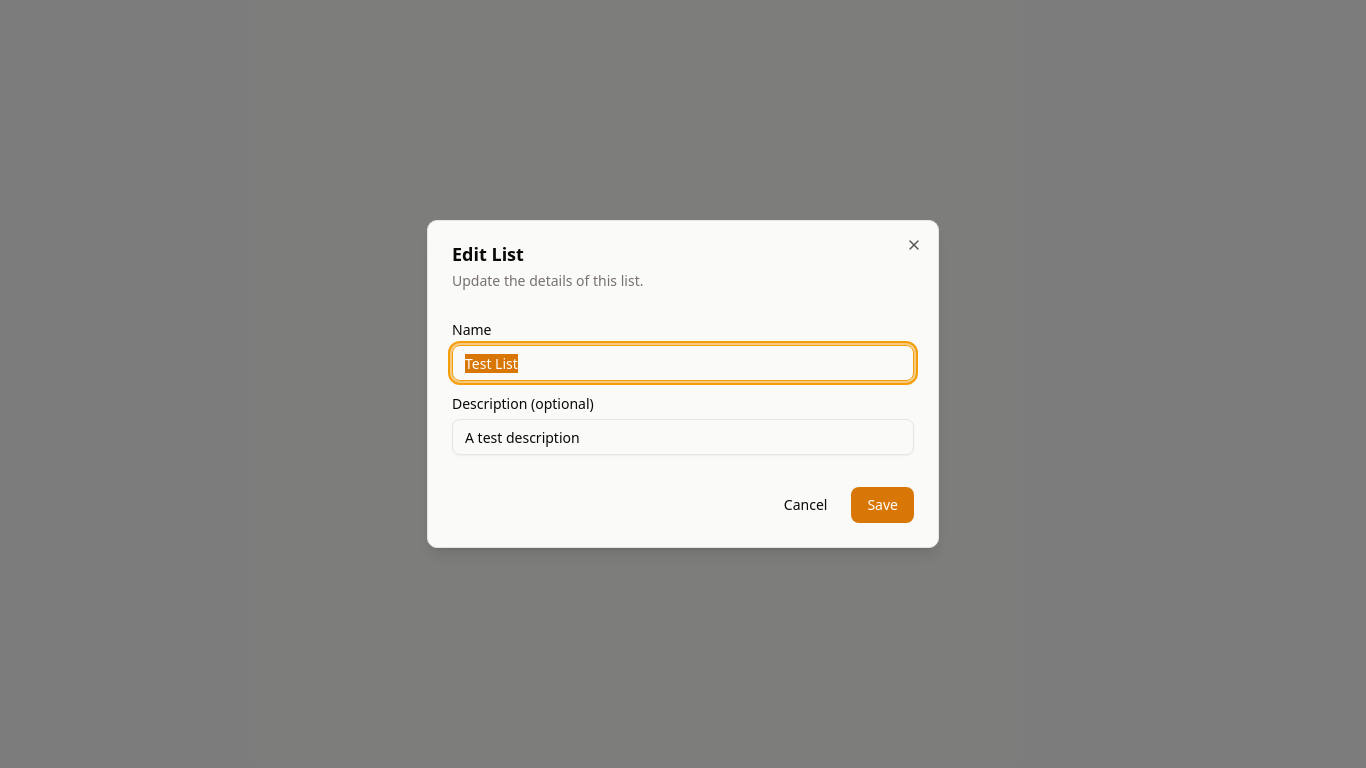
ListDialogs › EditListDialog › should disable Save button when name is empty
Clear the field labelled "Name": (683, 363) x1=452 y1=345 x2=914 y2=381
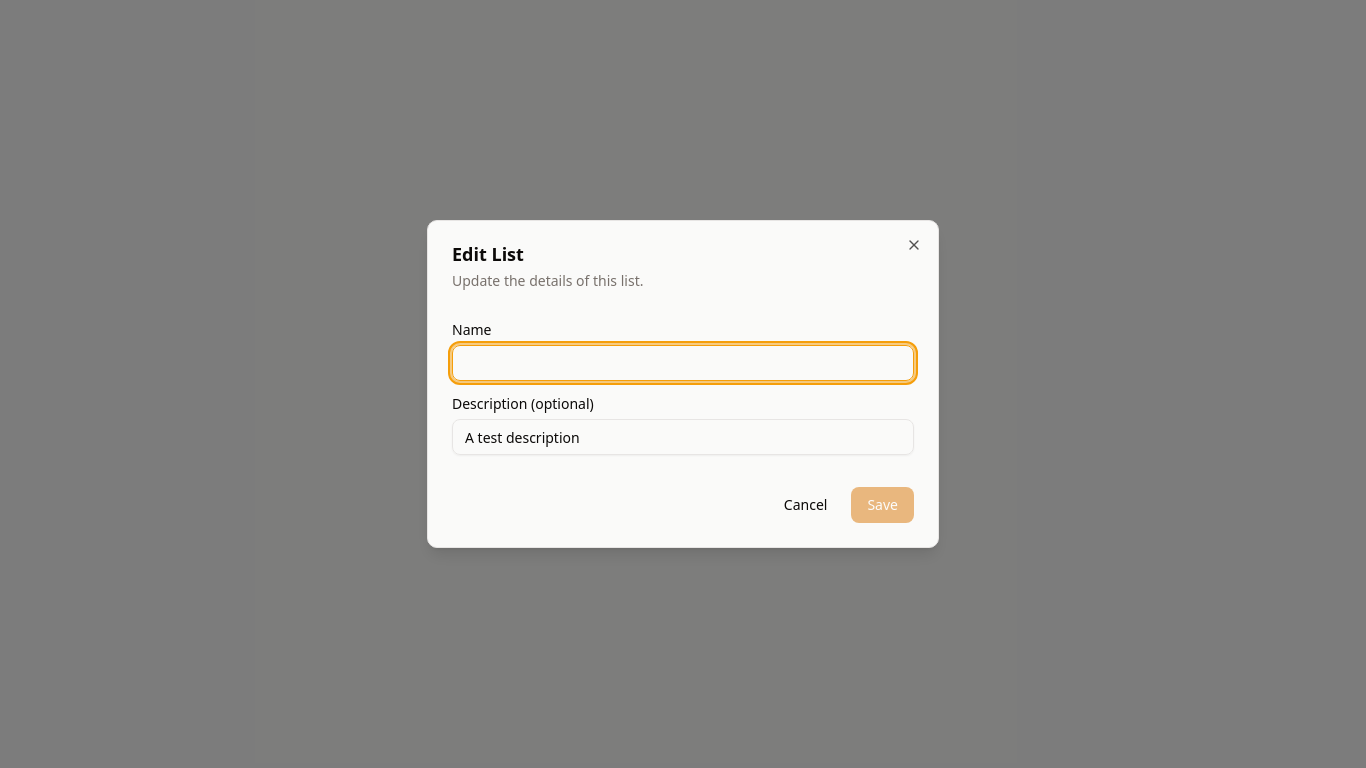
Expected: the button "Save" is disabled, x1=851 y1=487 x2=914 y2=523
